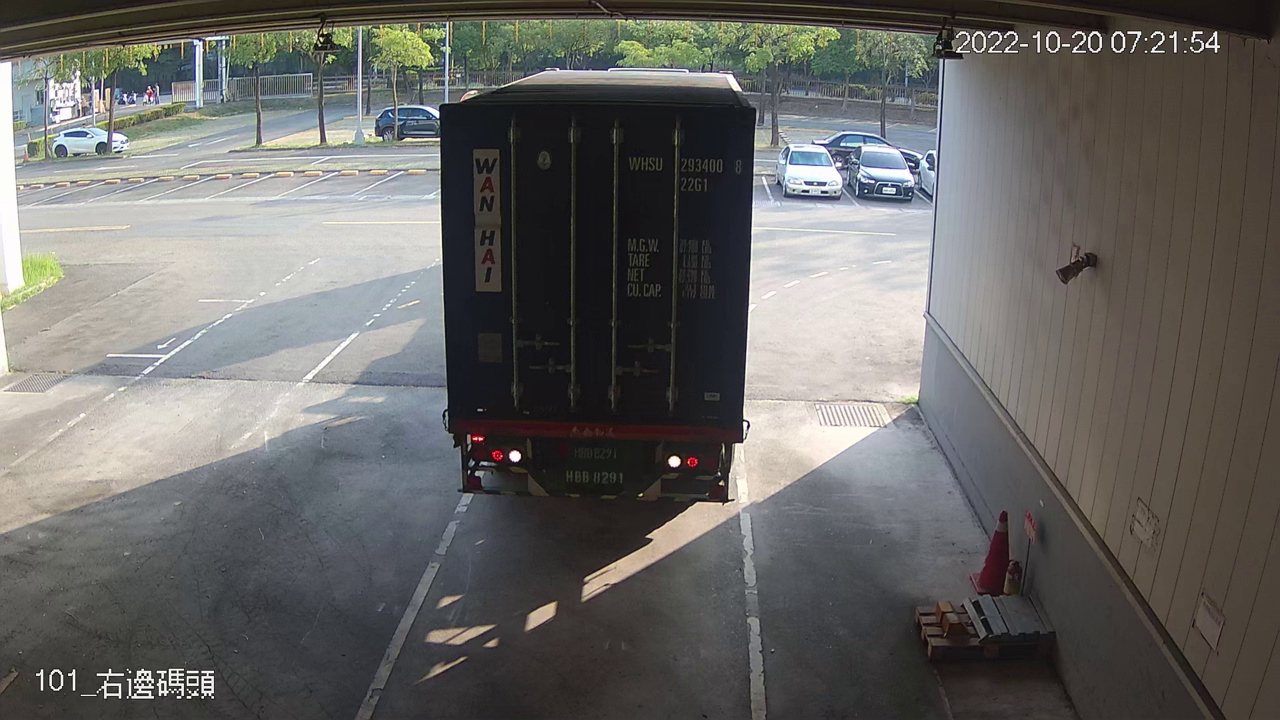container: (622, 146, 747, 197)
